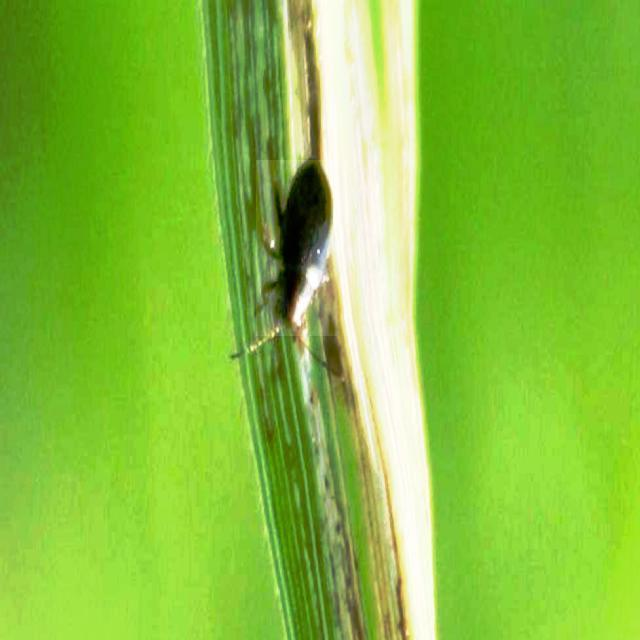rice-bug: (256, 160, 337, 336)
